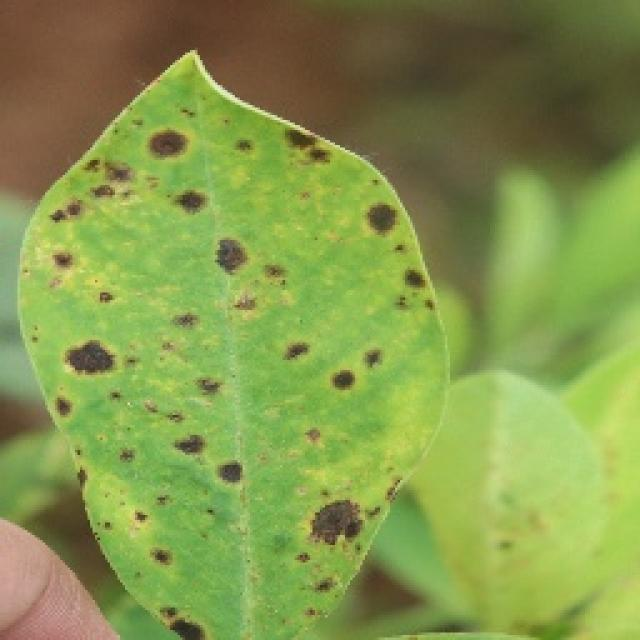Yellowish: (20, 39, 437, 640)
